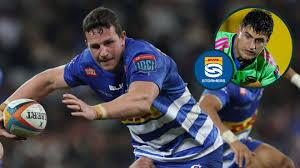ballon_rugby: (3, 99, 47, 138)
